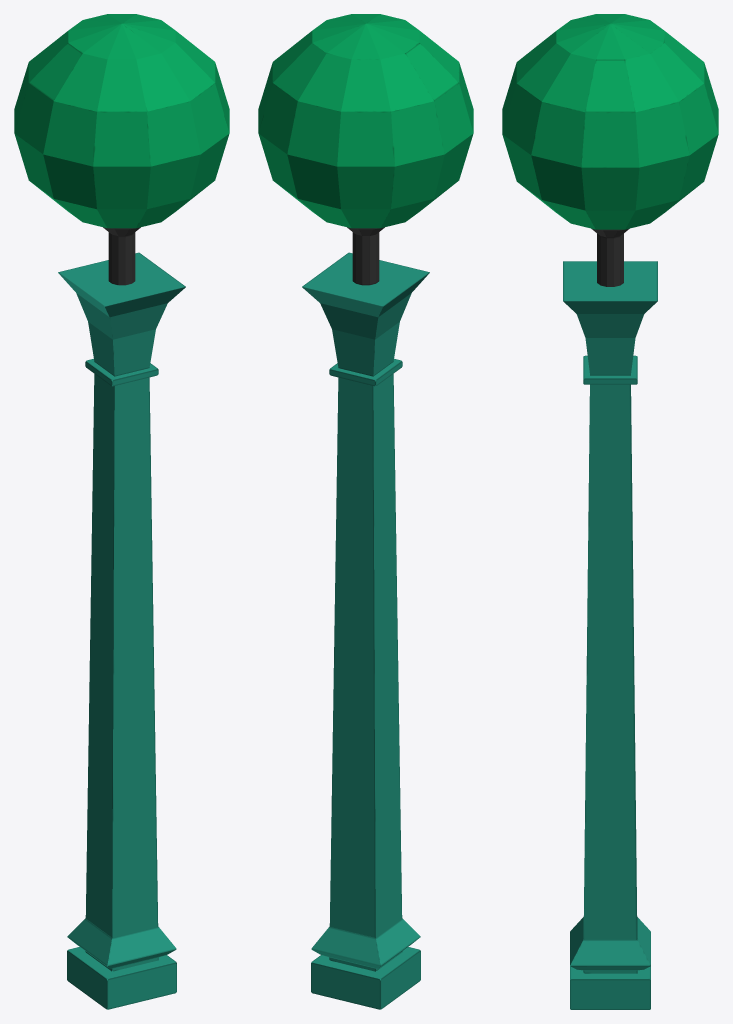
File: nyc_subway_entrance_1_globe_light_2g.obj
3 renders of one model, left to right at view 1: azimuth 30°, elevation 25°; view 2: azimuth 150°, elevation 25°; view 3: azimuth 270°, elevation 25°, orthographic.
Parts seen in each view (by area): view 1: cube, sphere, cylinder; view 2: cube, sphere, cylinder; view 3: cube, sphere, cylinder.
Boxes of the visible parts, x1,y1,x2,y2 form: cube: (58, 252, 185, 1009); sphere: (14, 14, 229, 228); cylinder: (103, 227, 140, 285); cube: (302, 252, 429, 1009); sphere: (258, 14, 473, 228); cylinder: (347, 227, 384, 285); cube: (563, 261, 657, 1009); sphere: (502, 14, 718, 229); cylinder: (591, 228, 629, 286).
Size of the model in its own units: 0.5 by 2.47 by 0.5.
1 material, 1 textured.
